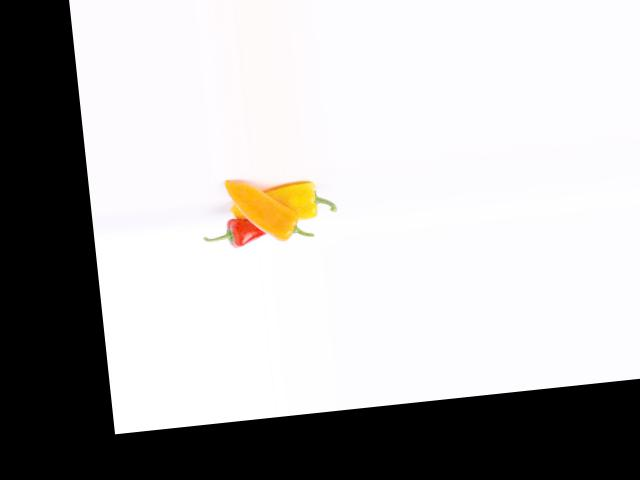bell_pepper: (254, 170, 341, 228)
